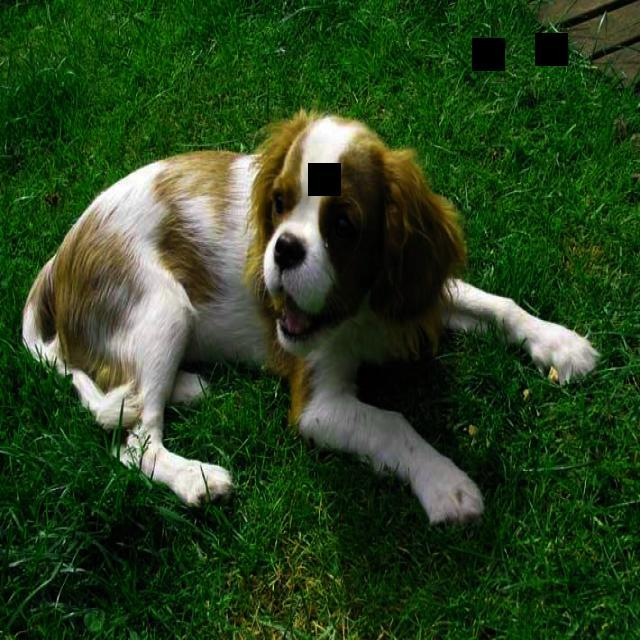adult_dog: (21, 108, 600, 532)
